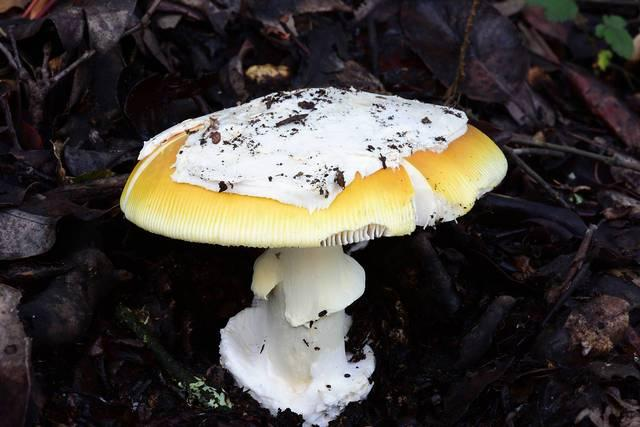edible_mushroom: (118, 84, 508, 425)
